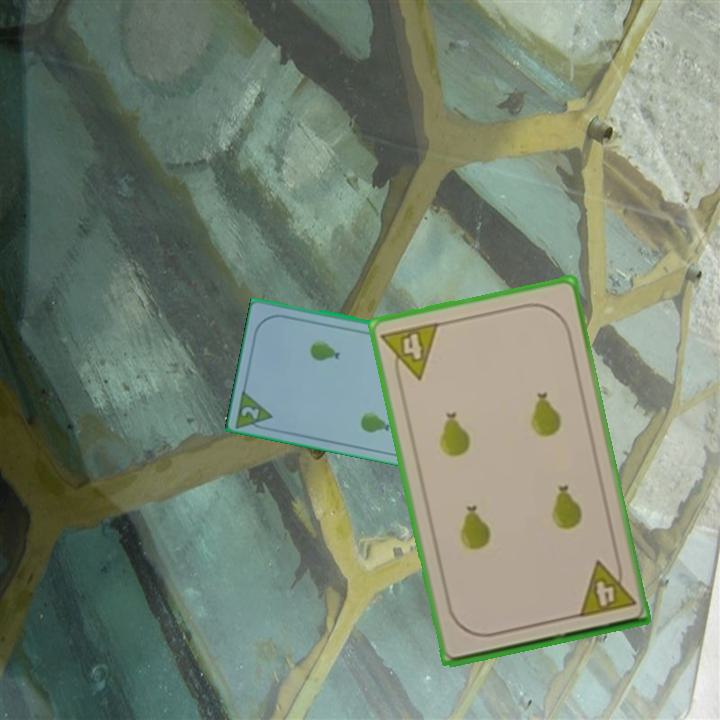2p: (233, 384, 276, 433)
4p: (378, 318, 442, 387), (574, 554, 638, 620)
